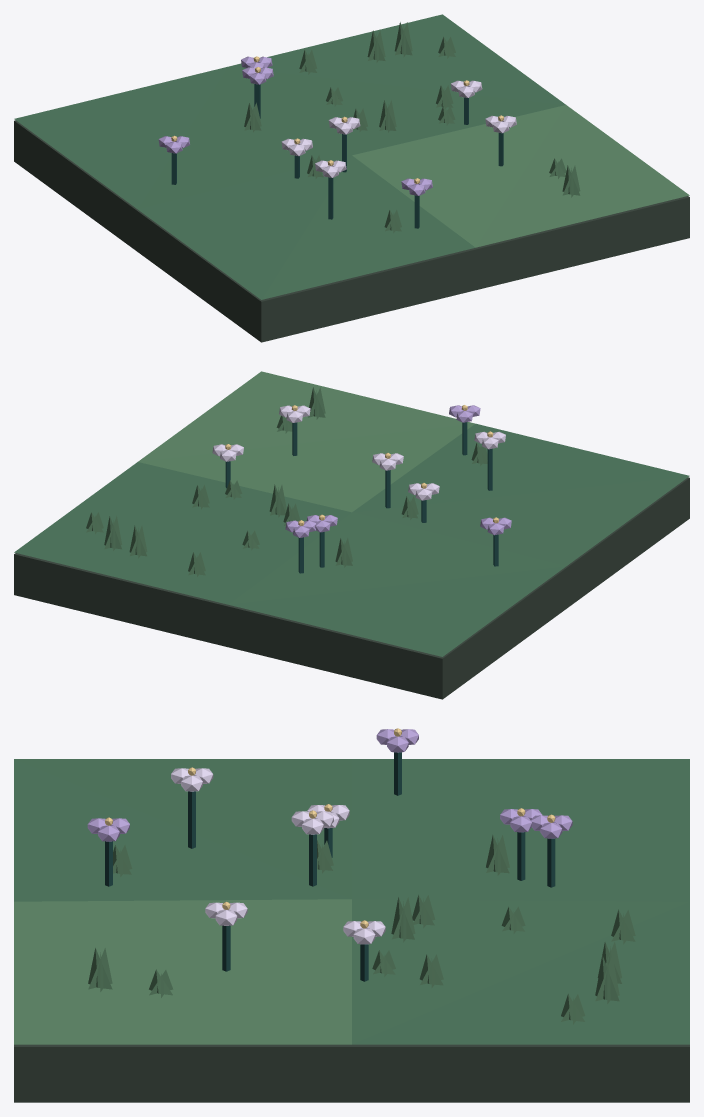
The model's file is EG_Suelo_Flores_2m.fbx.
The picture shows the model from 3 angles, top to bottom: view 1: azimuth 30°, elevation 25°; view 2: azimuth 150°, elevation 25°; view 3: azimuth 270°, elevation 25°; orthographic projection. The views are drawn at different scales.
Parts seen in each view (by area): view 1: EG_Suelo_Flores_2m; view 2: EG_Suelo_Flores_2m; view 3: EG_Suelo_Flores_2m.
Part boxes in pixels (x1=…): EG_Suelo_Flores_2m: x1=14, y1=14, x2=689, y2=342; EG_Suelo_Flores_2m: x1=14, y1=371, x2=689, y2=699; EG_Suelo_Flores_2m: x1=14, y1=728, x2=689, y2=1102.
Size of the model in its own units: 2 by 0.4552 by 2.
Materials: 1 (1 with a texture image).
